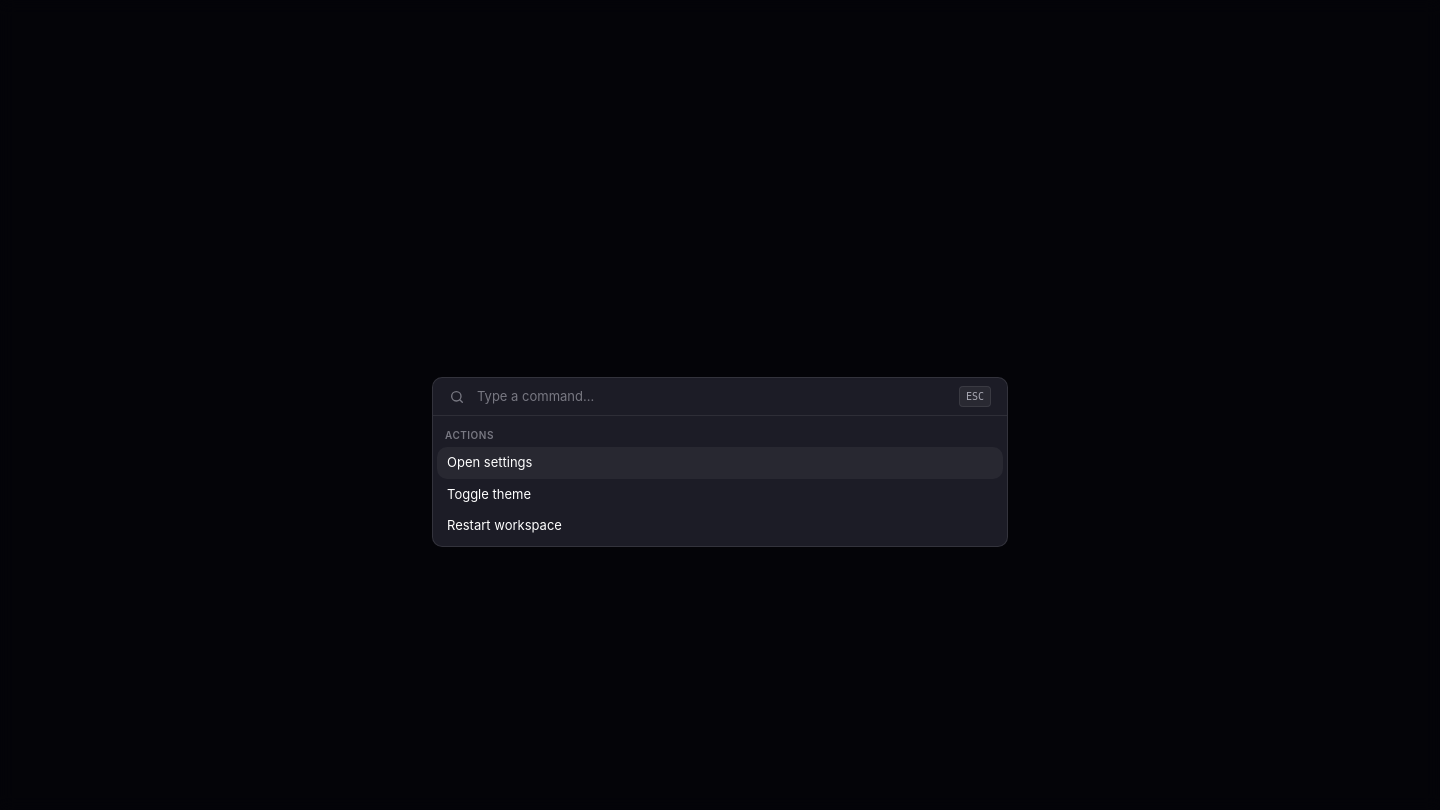
CommandPalette › filters commands by subsequence match
This screenshot has width=1440, height=810.
In the field: (712, 397) [477, 387, 947, 406], type "restart"
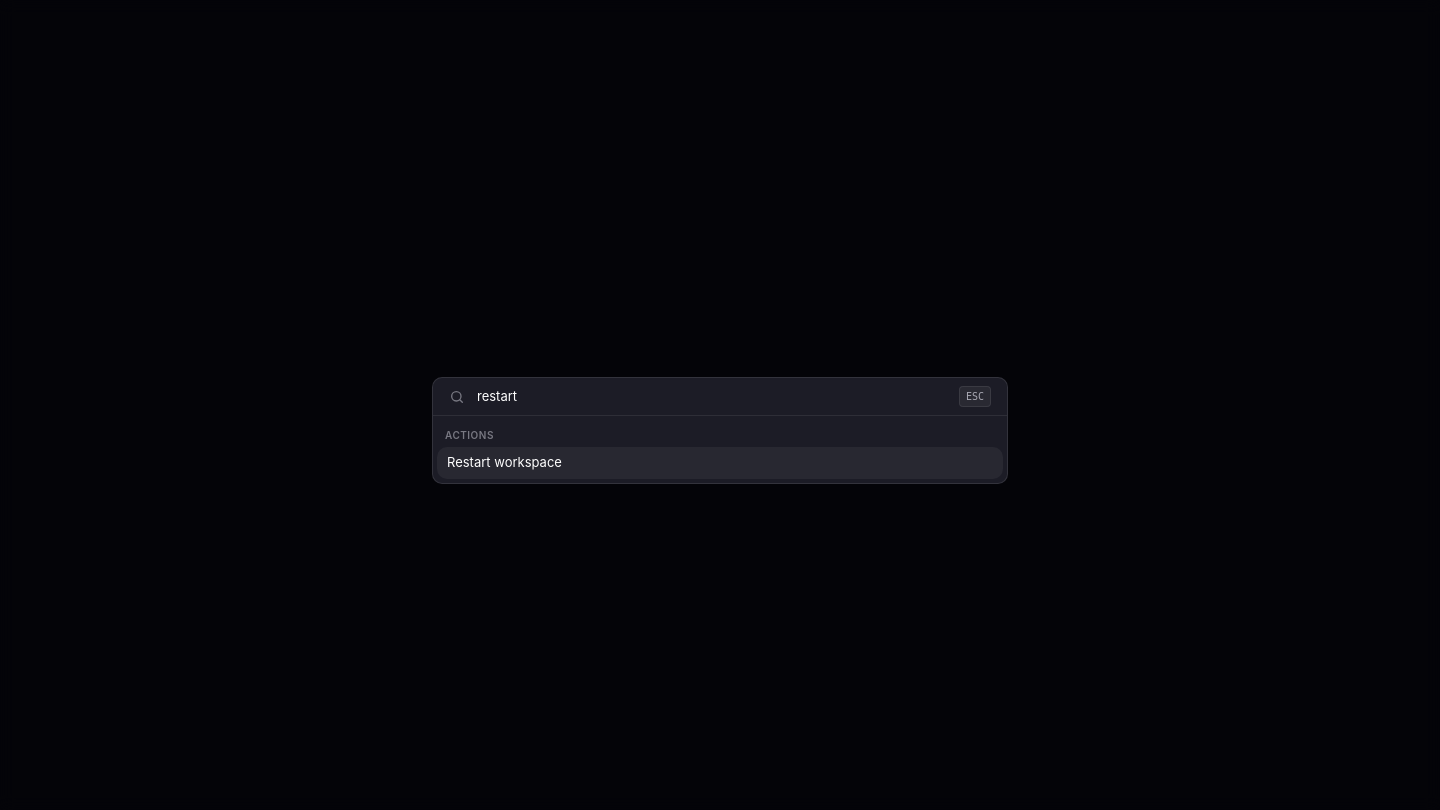
Expected: the text "Restart workspace" is shown, [447, 454, 562, 470]
Result: the button "Open settings" is gone
Result: the button "Toggle theme" is gone
